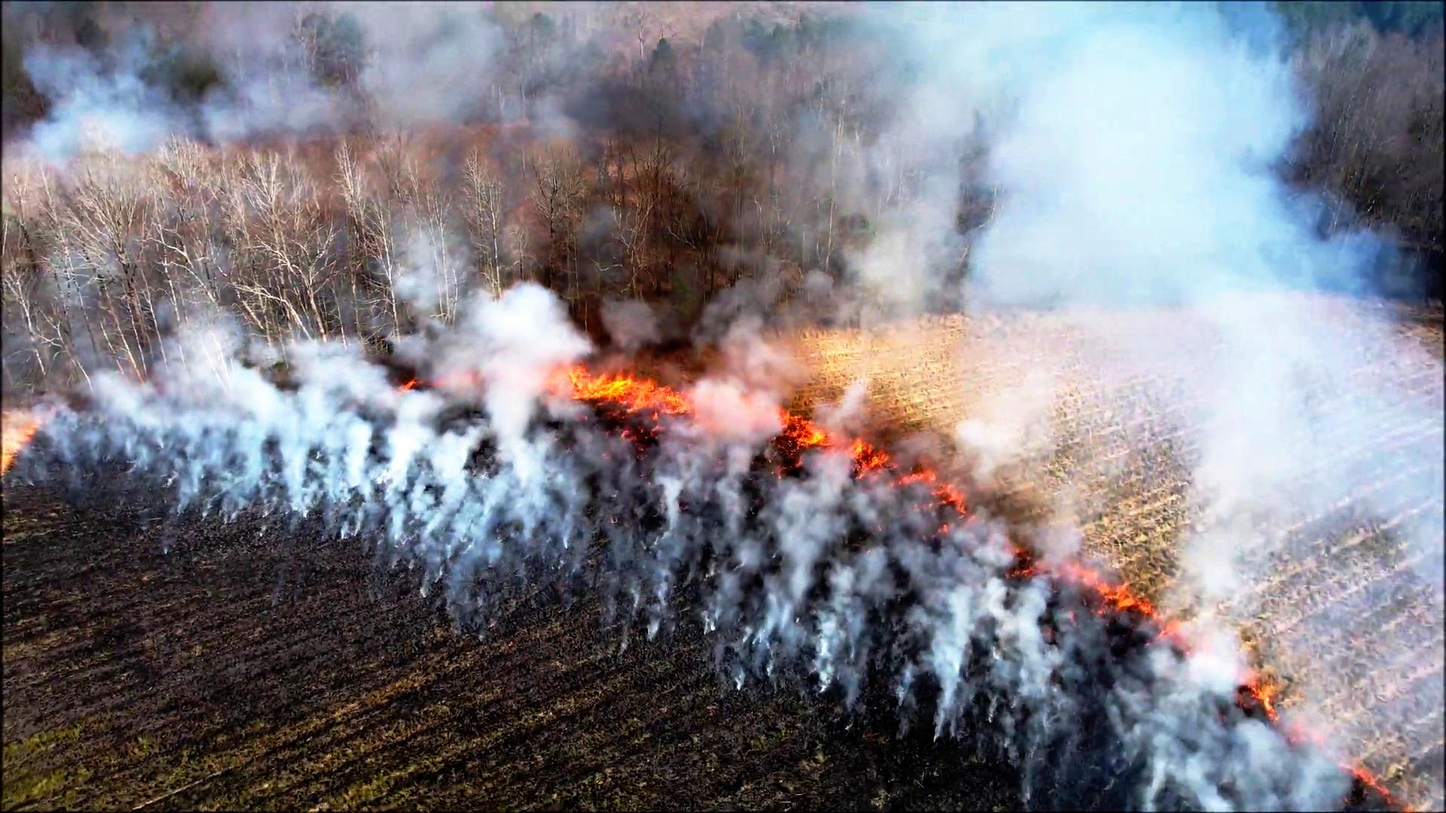fire: (591, 358, 700, 437)
smoke: (802, 15, 1446, 614), (45, 312, 580, 614), (1118, 662, 1344, 813), (757, 463, 862, 708), (896, 519, 998, 741), (629, 444, 723, 651)
